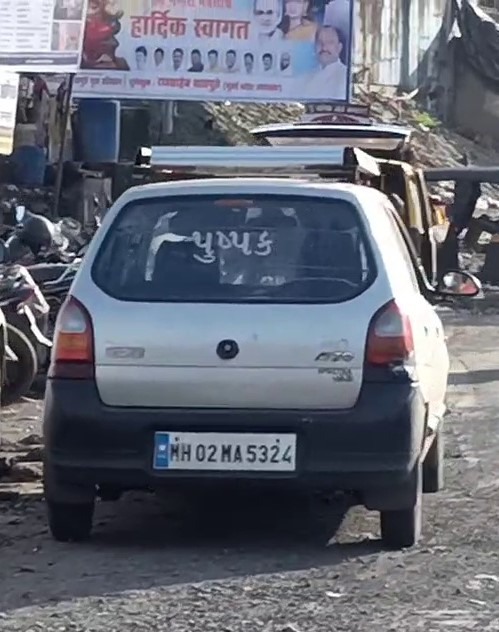MH02MA5324: (151, 430, 295, 472)
